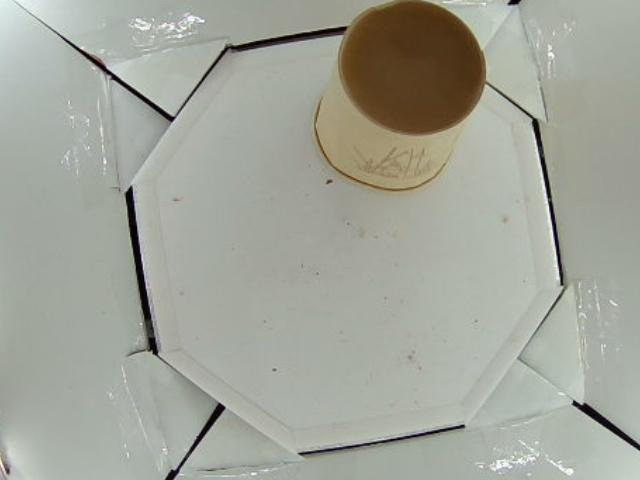Cup: (315, 3, 488, 194)
